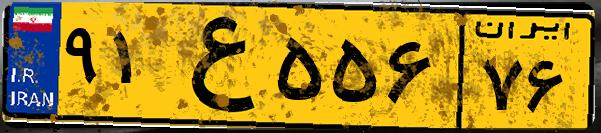1: (110, 28, 158, 98)
5: (270, 28, 330, 110), (330, 28, 385, 110)
6: (385, 28, 445, 110), (525, 38, 570, 115)
7: (475, 38, 525, 113)
9: (57, 26, 110, 100)
ع: (158, 12, 270, 120)
